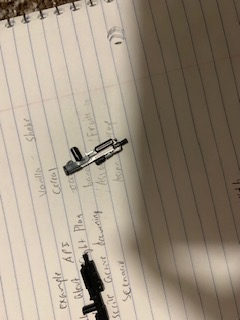rifle: (61, 138, 129, 176), (74, 251, 109, 320)
